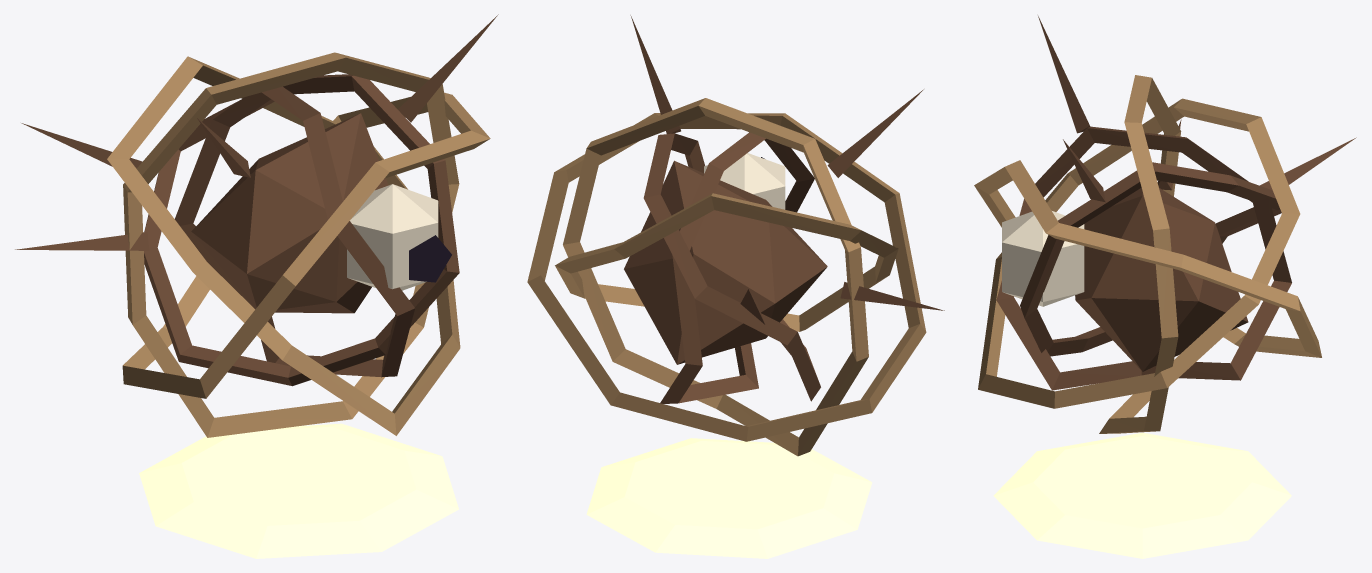
The model's file is Veg_TumbleweedFloat_B.fbx.
3 renders of one model, left to right at view 1: azimuth 30°, elevation 25°; view 2: azimuth 150°, elevation 25°; view 3: azimuth 270°, elevation 25°, orthographic. The views are drawn at different scales.
Parts seen in each view (by area): view 1: Veg_TumbleweedFloat_B_Body, Veg_TumbleweedFloat_B_Glow; view 2: Veg_TumbleweedFloat_B_Body, Veg_TumbleweedFloat_B_Glow; view 3: Veg_TumbleweedFloat_B_Body, Veg_TumbleweedFloat_B_Glow.
Boxes of the visible parts, bbox=[...] form: Veg_TumbleweedFloat_B_Body: bbox=[15, 14, 498, 437]; Veg_TumbleweedFloat_B_Glow: bbox=[139, 423, 458, 558]; Veg_TumbleweedFloat_B_Body: bbox=[527, 15, 944, 456]; Veg_TumbleweedFloat_B_Glow: bbox=[586, 438, 872, 558]; Veg_TumbleweedFloat_B_Body: bbox=[974, 16, 1356, 433]; Veg_TumbleweedFloat_B_Glow: bbox=[993, 432, 1291, 558].
Size of the model in its own units: 0.9164 by 0.9428 by 0.771.
